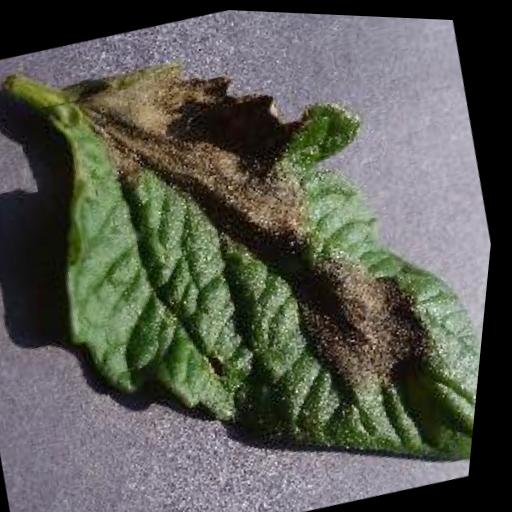Late Blight: (0, 1, 512, 512)
